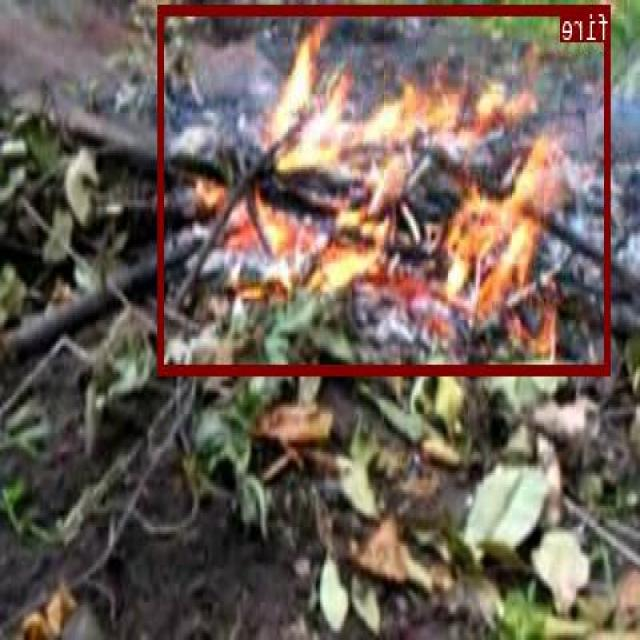fire: (159, 3, 612, 372)
